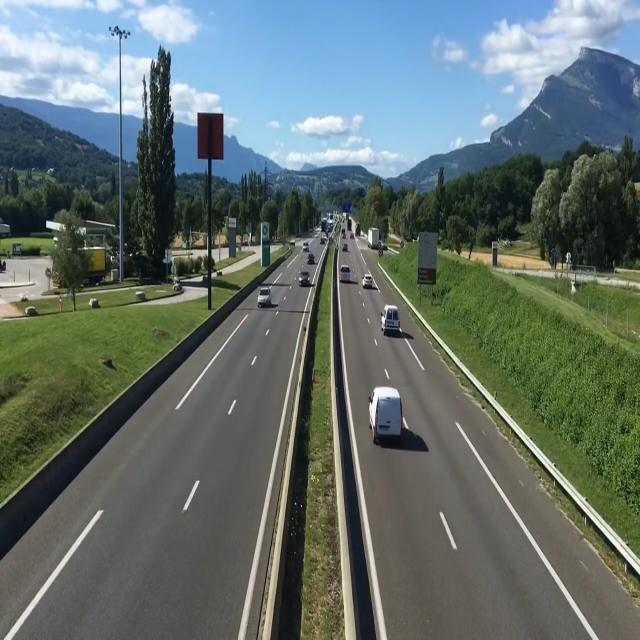car: (370, 385, 406, 450), (381, 304, 404, 341), (255, 281, 279, 310), (339, 258, 354, 286), (296, 270, 312, 288), (362, 273, 376, 293), (306, 251, 317, 267)
truck: (366, 227, 384, 254)
